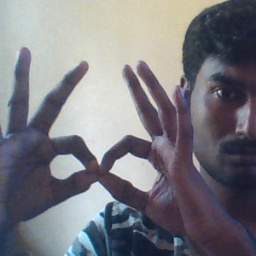B: (34, 93, 168, 207)
